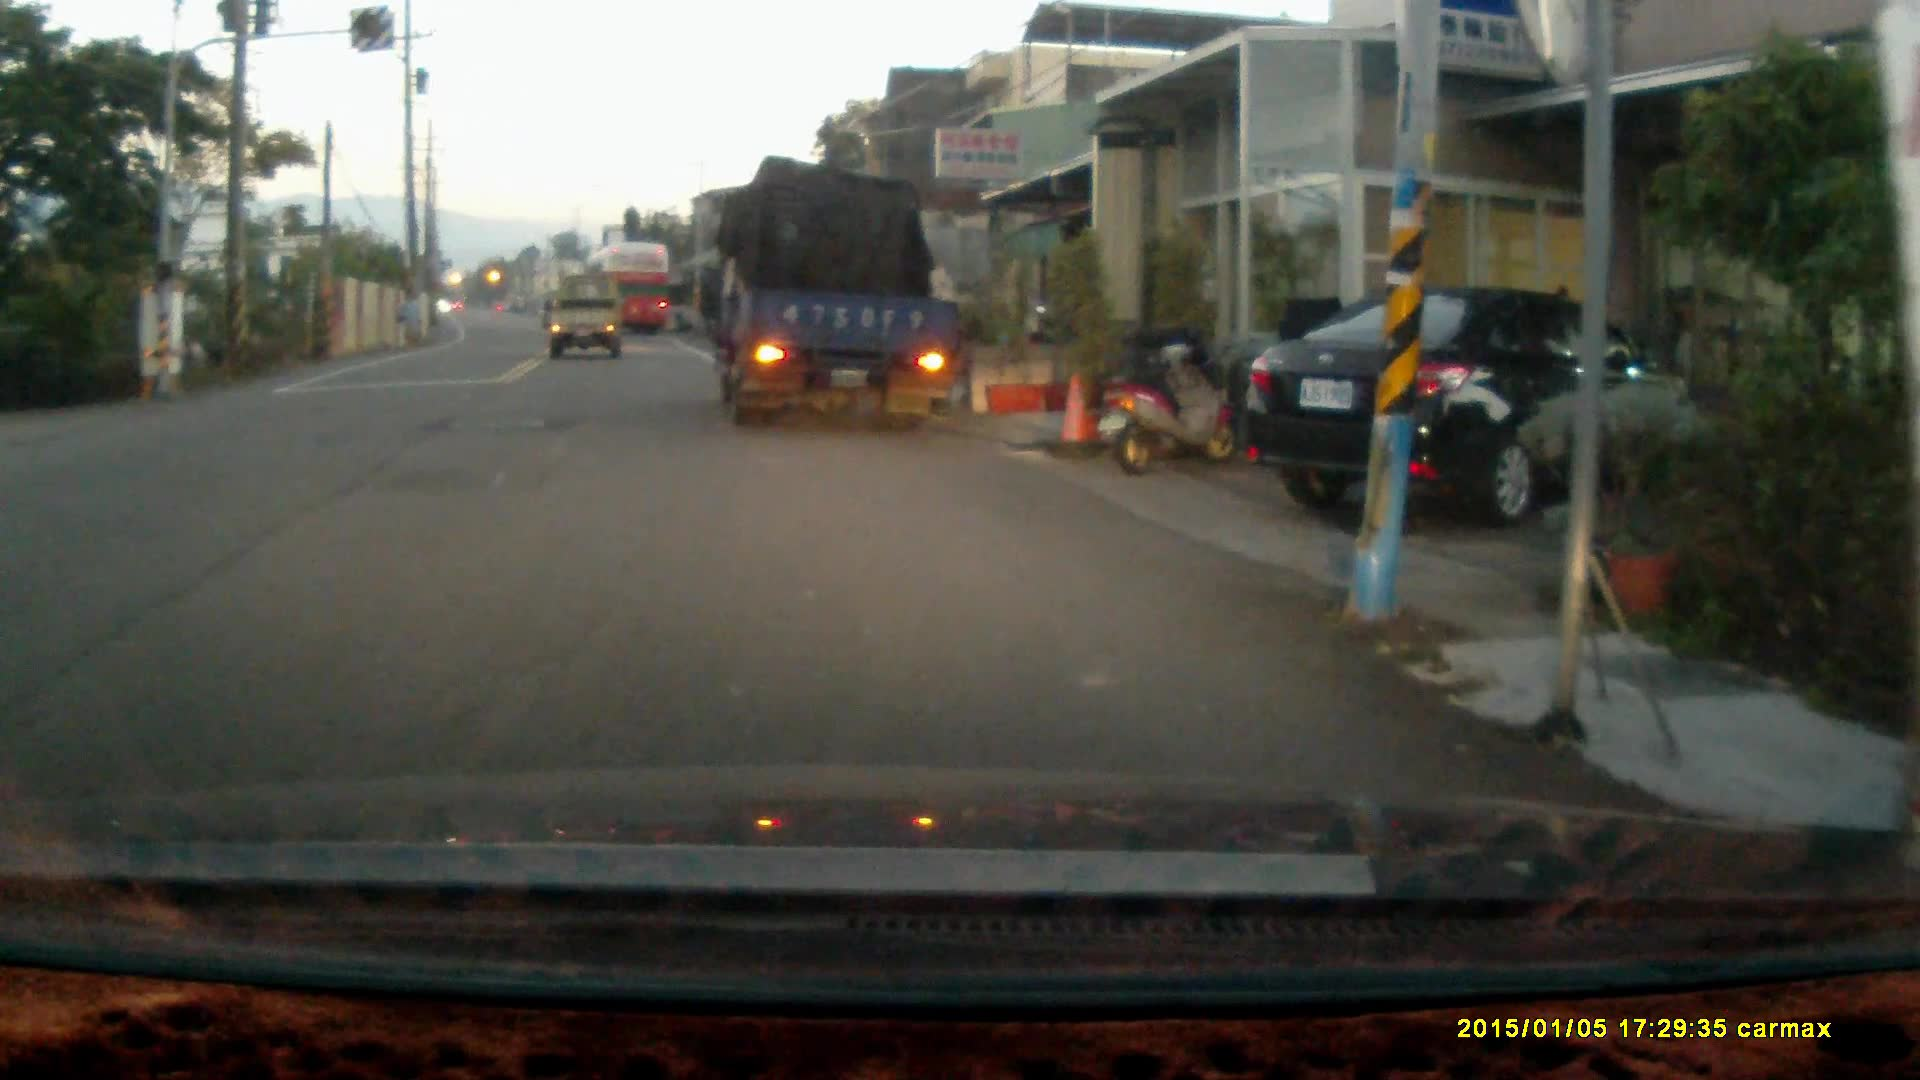vehicle: (1245, 280, 1696, 522), (696, 165, 963, 425), (585, 239, 675, 338), (549, 285, 622, 364)
